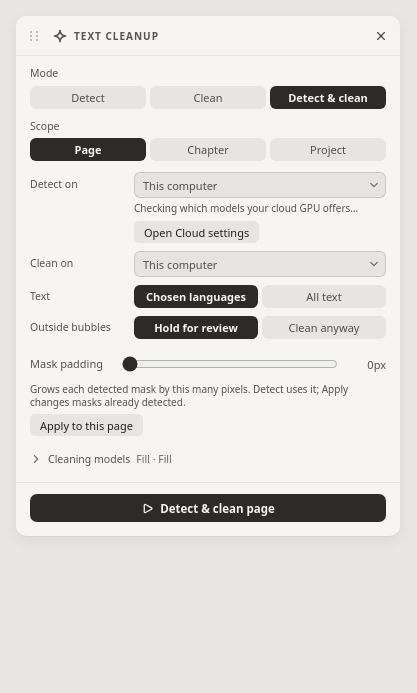
the Text cleanup panel › reaches every run choice: mode, scope, both places, the text taken and the outside-bubble opt-in
The width and height of the screenshot is (417, 693).
Check: the field labelled "Speech bubble text" is not shown
Click the button "Cleaning models Fill · Fill".
click(89, 459)  # box [30, 447, 386, 471]
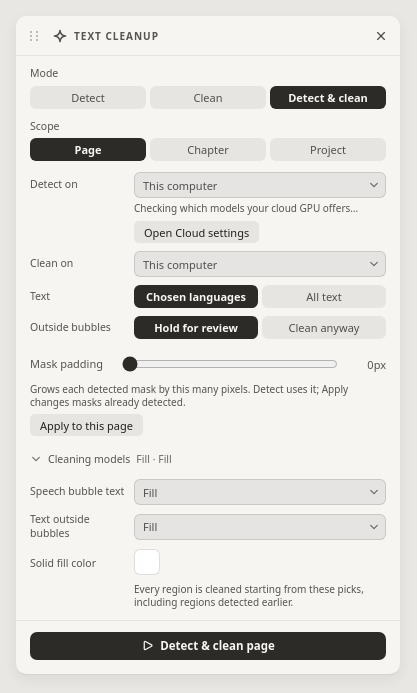
Check: the button "Cleaning models Fill · Fill" is expanded, box [30, 447, 386, 471]
